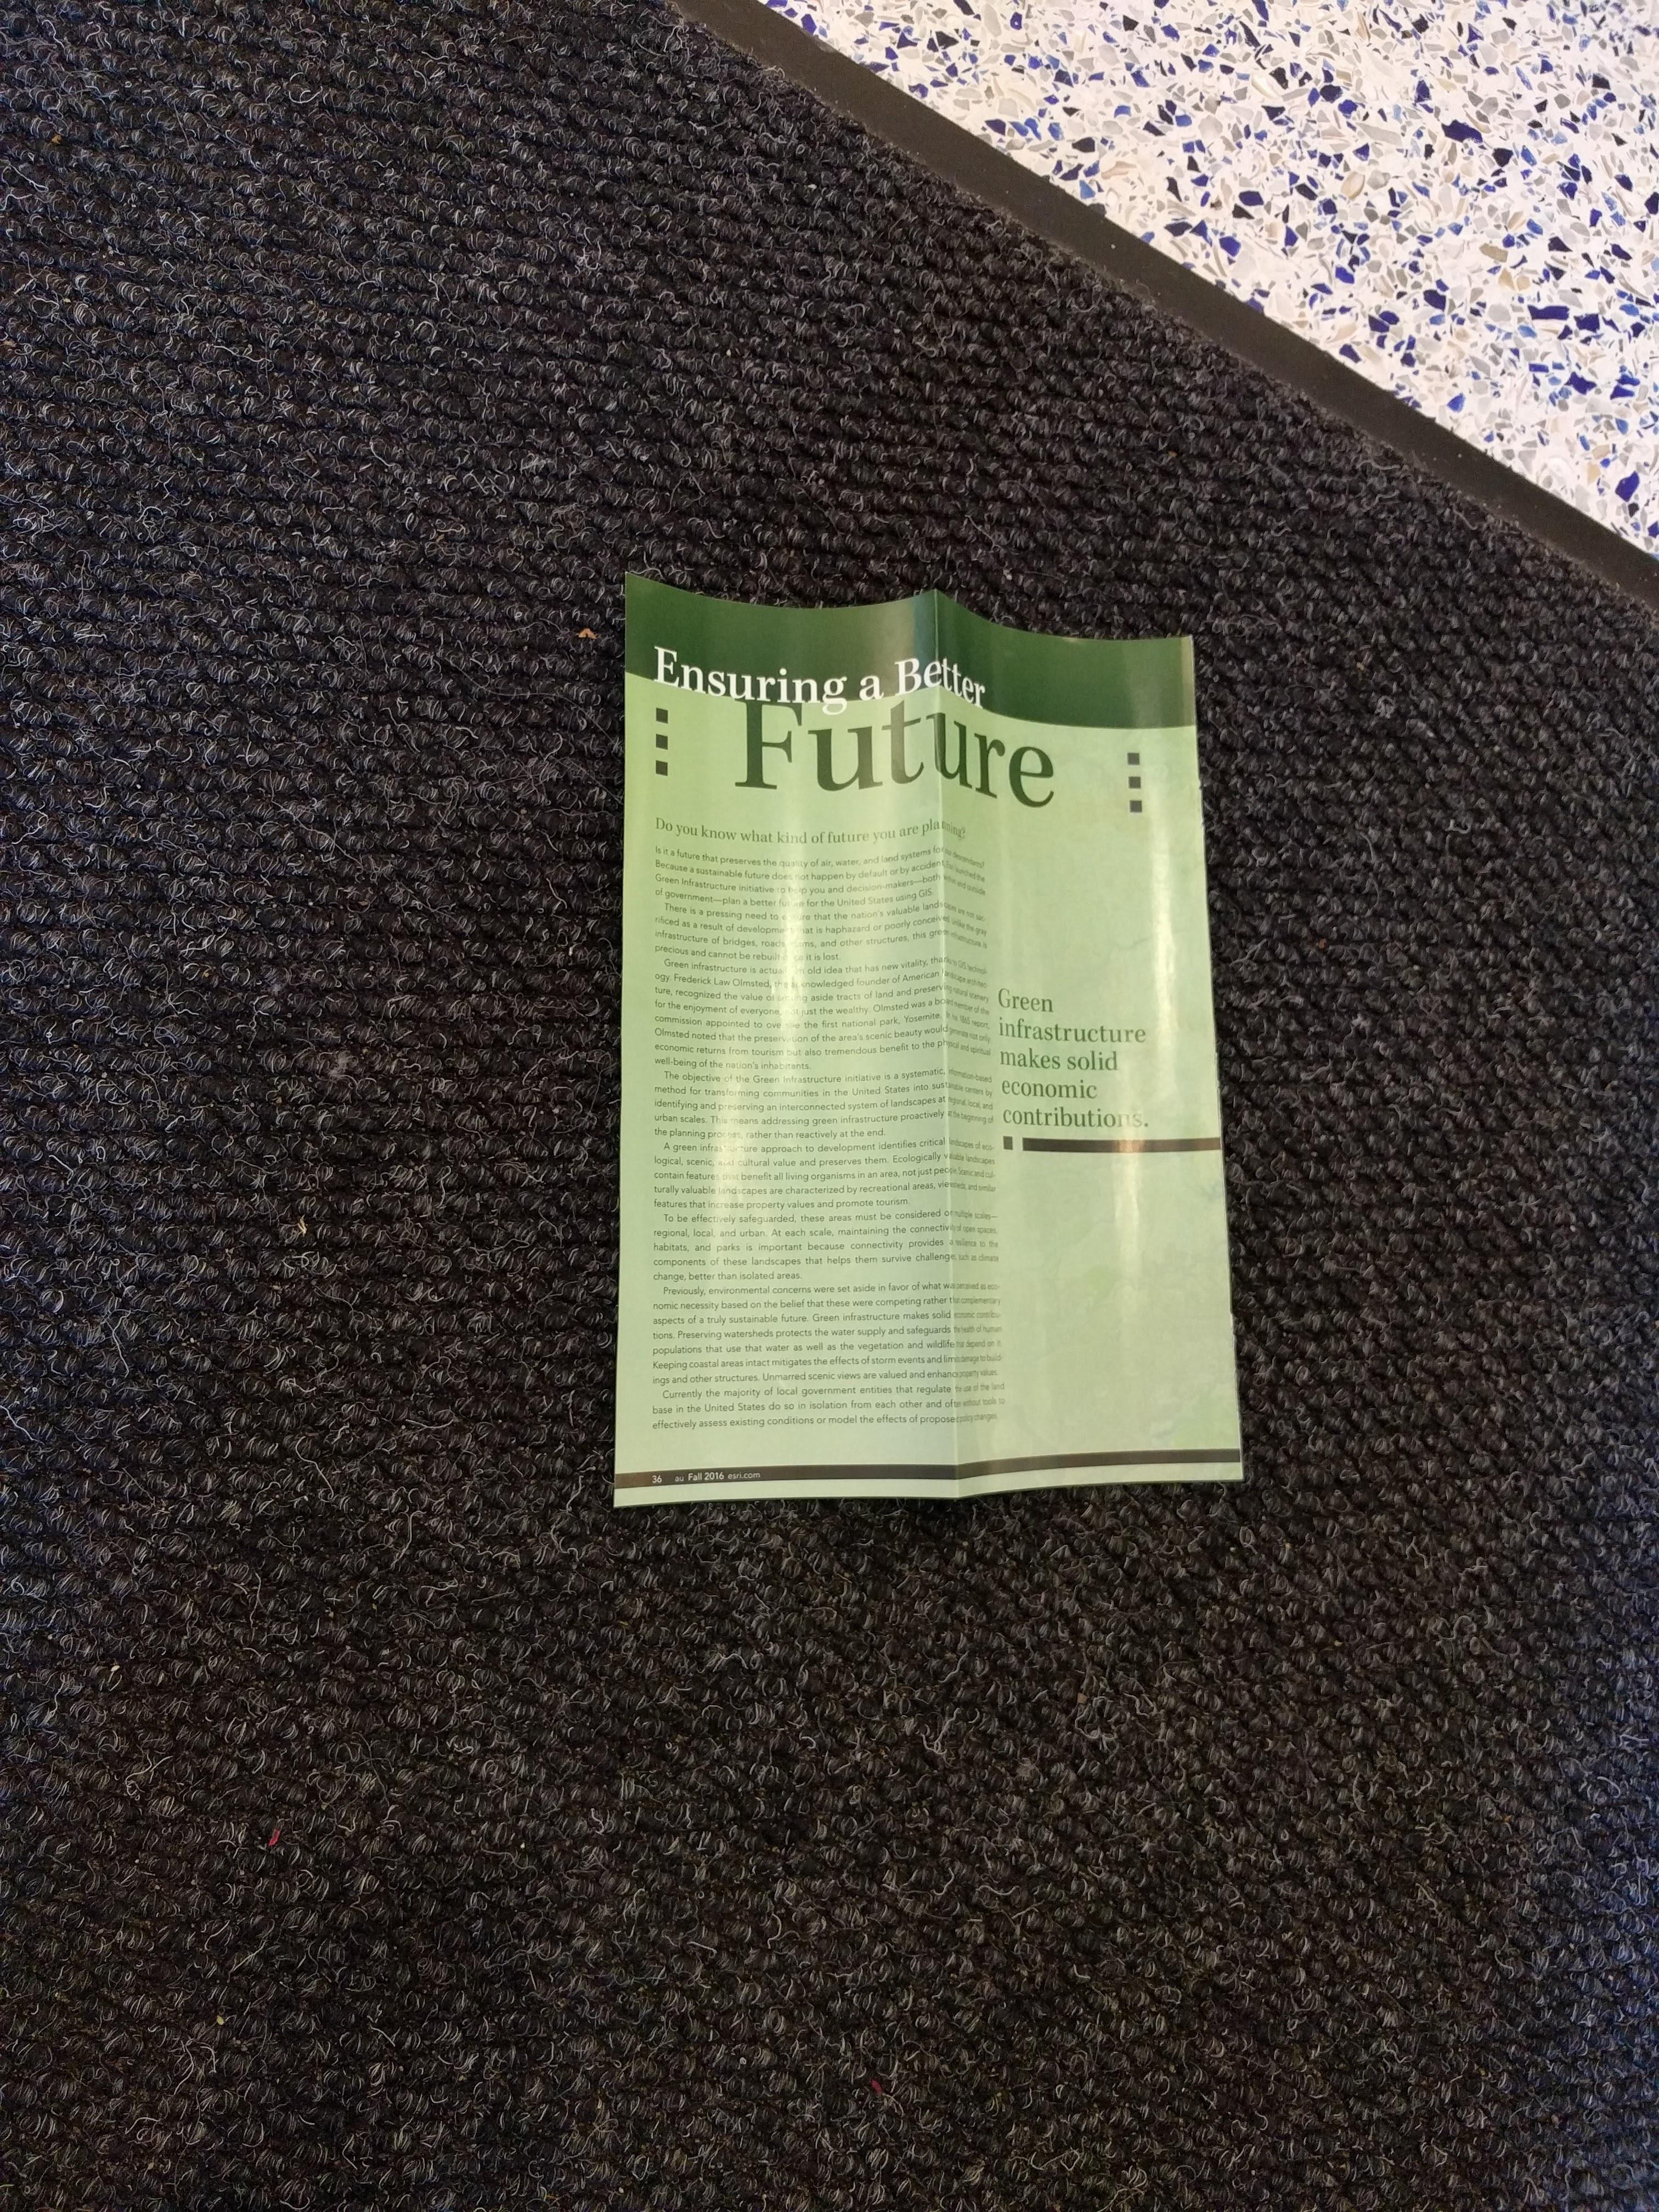paper: (474, 153, 1438, 1865)
